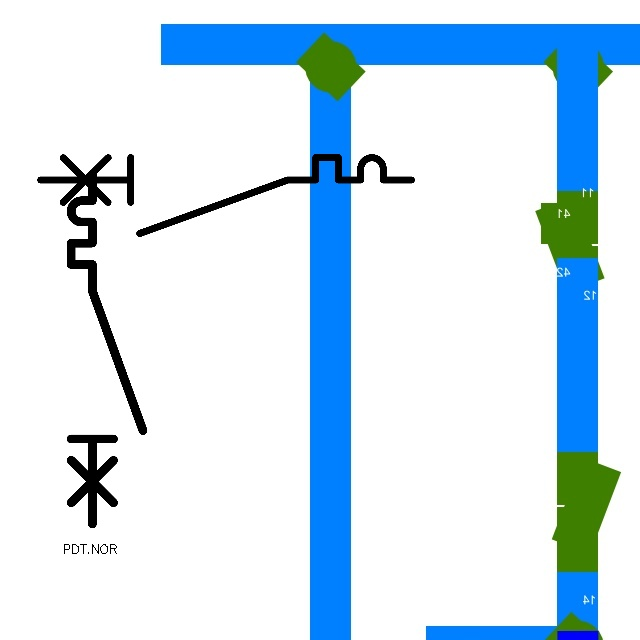interruptor_termomagnetico: (31, 148, 421, 243), (62, 165, 152, 533)
